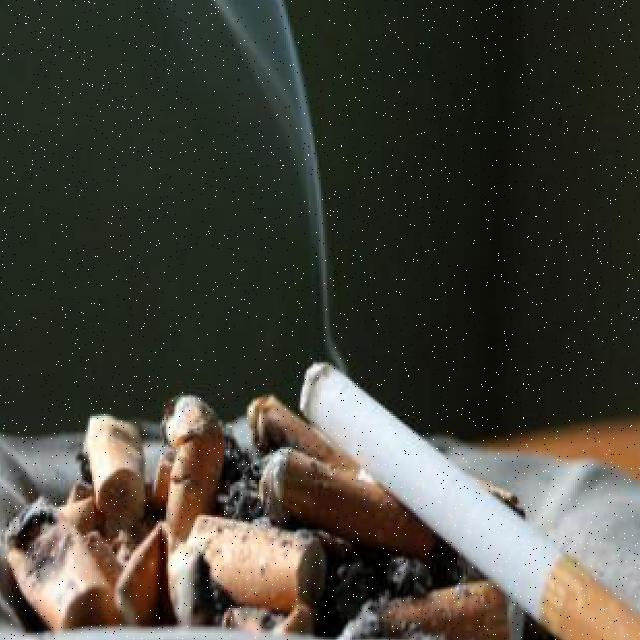smoke: (203, 0, 343, 375)
